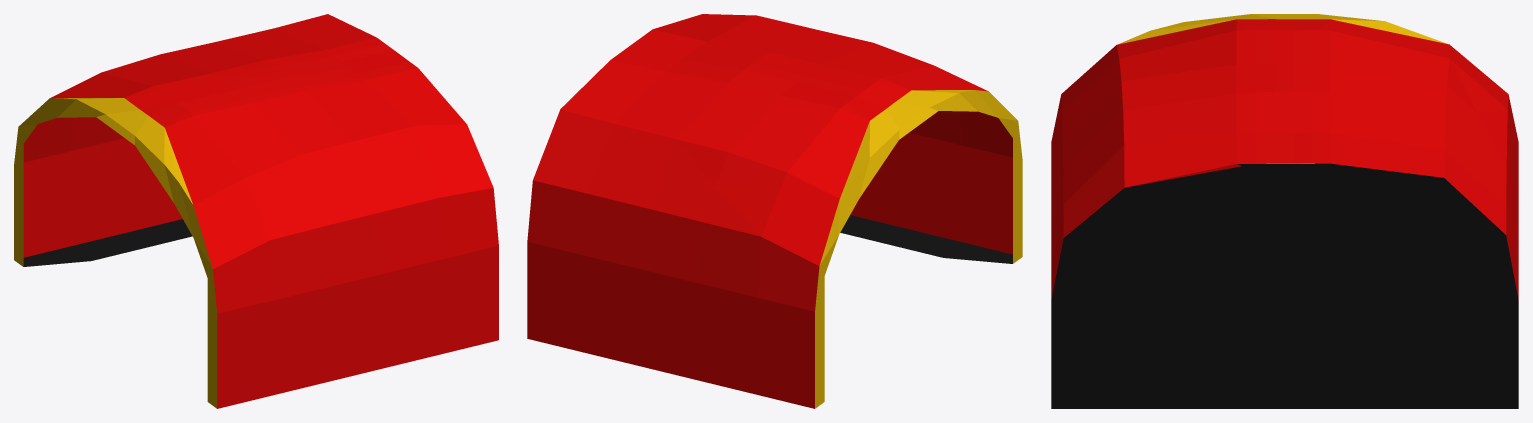
The model's file is C0.Cowl.1cRR.Export.glb.
3 views of the same model, side by side, from view 1: azimuth 30°, elevation 25°; view 2: azimuth 150°, elevation 25°; view 3: azimuth 270°, elevation 25° (orthographic). The views are drawn at different scales.
Parts seen in each view (by area): view 1: Cube.003; view 2: Cube.003; view 3: Cube.003.
Part boxes in pixels (x1,y1,x2,y2): Cube.003: (14, 14, 498, 408); Cube.003: (527, 14, 1022, 408); Cube.003: (1051, 14, 1518, 408).
Size of the model in its own units: 0.75 by 0.5612 by 0.9375.
